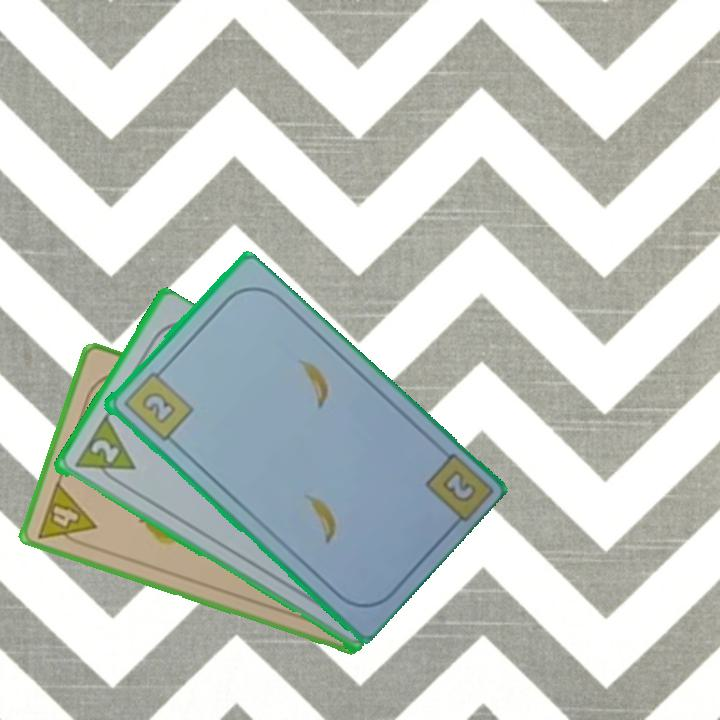2b: (119, 363, 196, 444), (437, 466, 479, 506)
2p: (86, 435, 122, 467)
4p: (34, 478, 99, 552)
